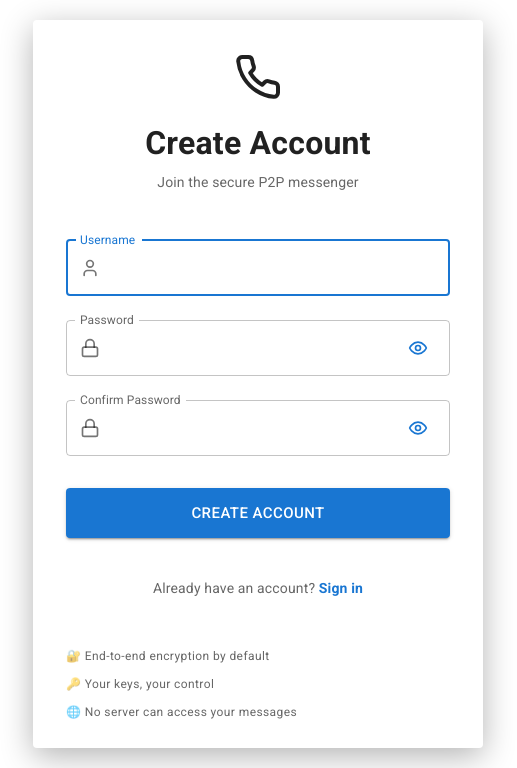
Scenario: RegisterForm › shows validation errors for empty fields
The image size is (517, 768).
Click the button "Create Account": [258, 513] box [66,488,450,538]
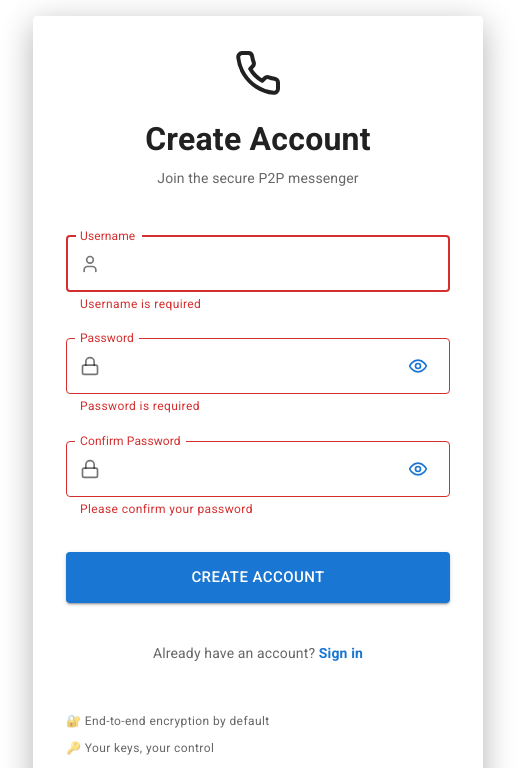
Check: the text "Username is required" is shown, box [80,296,201,310]
Check: the text "Password is required" is shown, box [80,399,200,413]
Check: the text "Please confirm your password" is shown, box [80,502,253,516]
